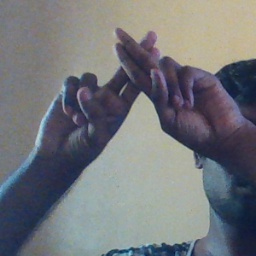F: (81, 20, 200, 130)
